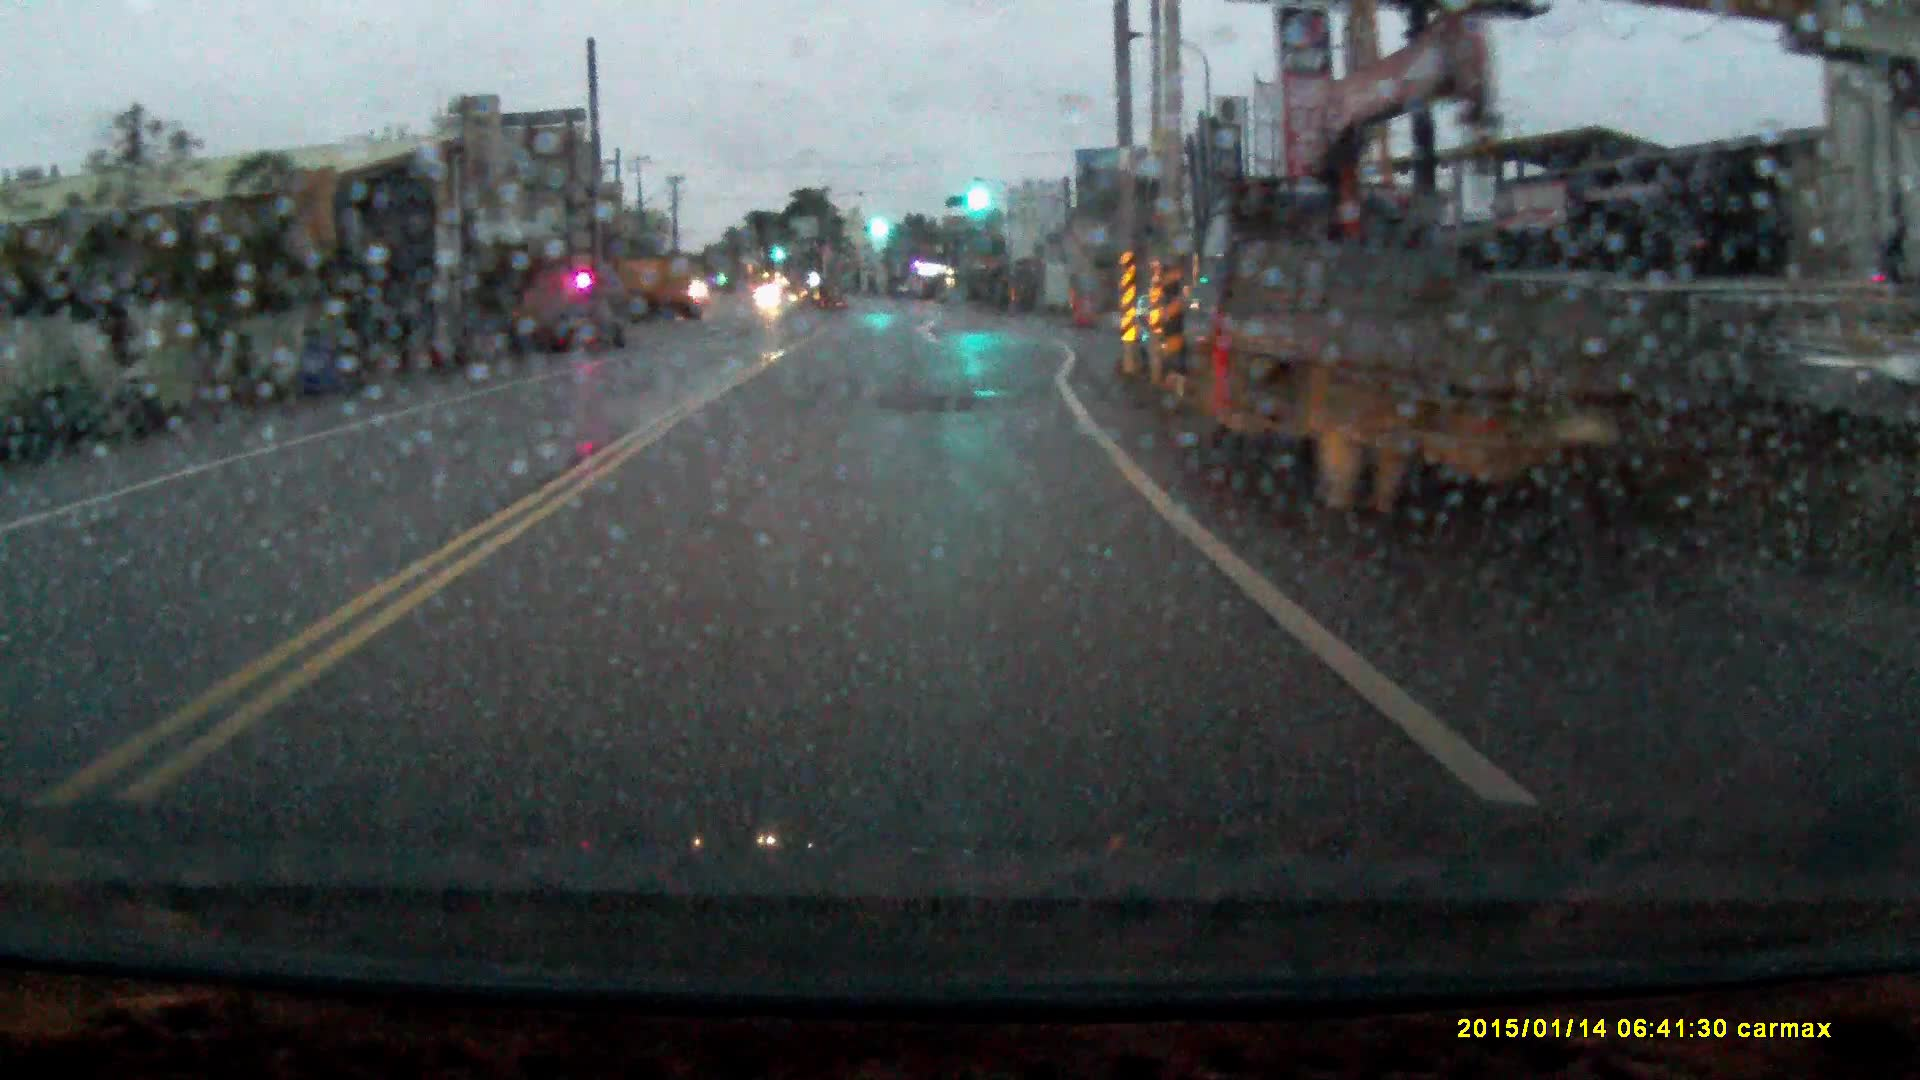vehicle: (1168, 200, 1796, 564), (599, 256, 698, 328), (551, 306, 624, 355)
